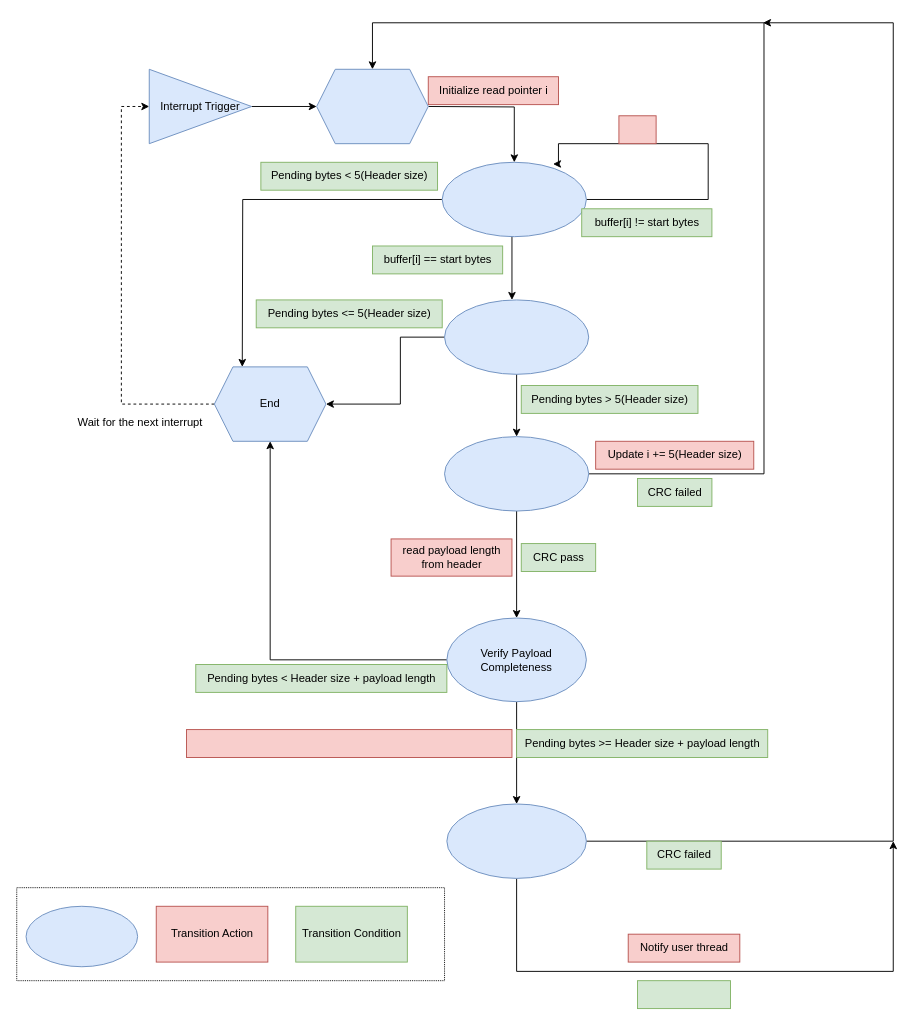
This 917x1025 diagram has some shape labels left out. The centre of each missing label's shape, as x and y in pixels:
"CRC Success" belongs at point (684, 994).
"Find Start Bytes" belongs at point (513, 199).
"i++" belongs at point (637, 129).
"Start" belongs at point (372, 106).
"State" belongs at point (81, 936).
"Update i -> i + 5(Header length) + payload length + 2(CRC16)" belongs at point (349, 743).
"Verify Header Completeness" belongs at point (516, 336).
"Verify Header CRC" belongs at point (516, 473).
"Verify Payload CRC" belongs at point (516, 840).
